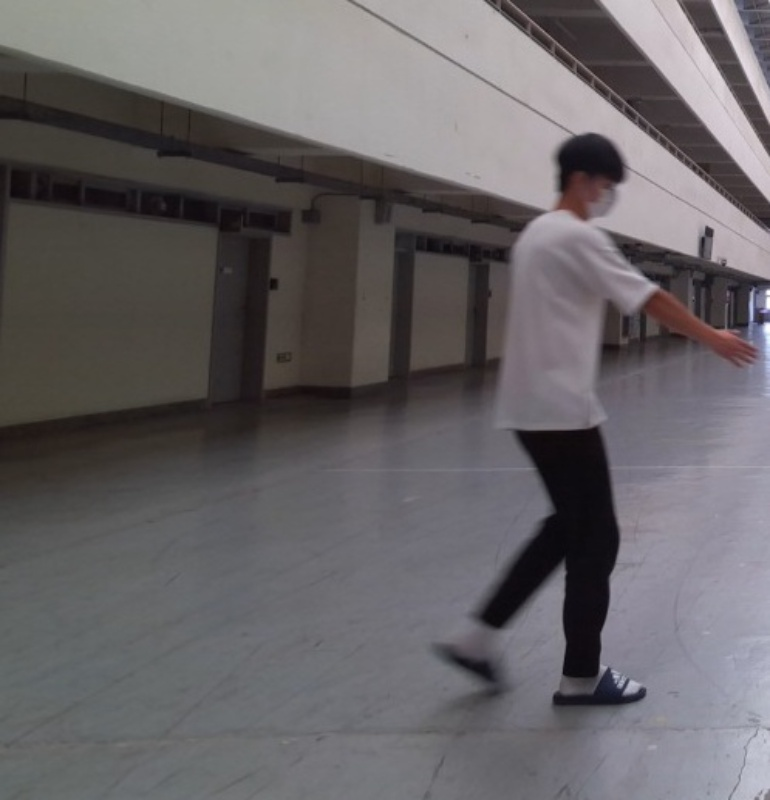person: (421, 132, 762, 709)
